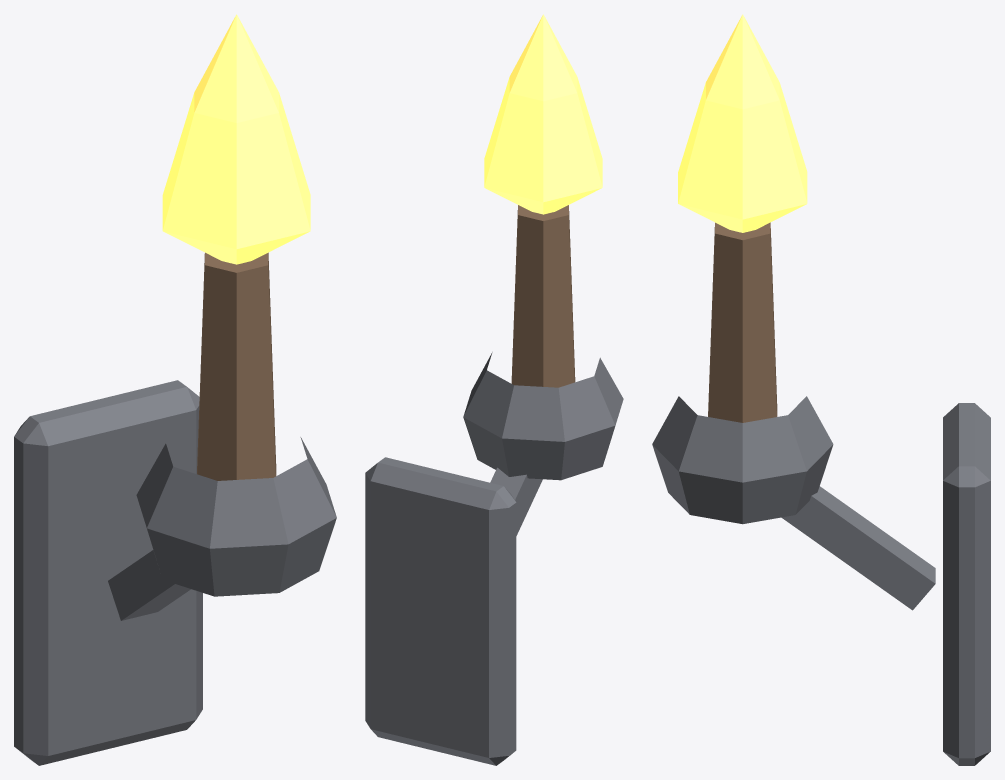
File: torch-sconce.glb
3 renders of one model, left to right at view 1: azimuth 30°, elevation 25°; view 2: azimuth 150°, elevation 25°; view 3: azimuth 270°, elevation 25°, orthographic. The views are drawn at different scales.
Visible parts, largest first — view 1: torch-sconce; view 2: torch-sconce; view 3: torch-sconce.
Boxes of the visible parts, box(x1,y1,x2,y2) form: torch-sconce: box(14, 14, 336, 765); torch-sconce: box(365, 14, 623, 765); torch-sconce: box(652, 14, 990, 765).
Bounding box in the file's own units: 0.3399 × 1.49 × 0.635.
